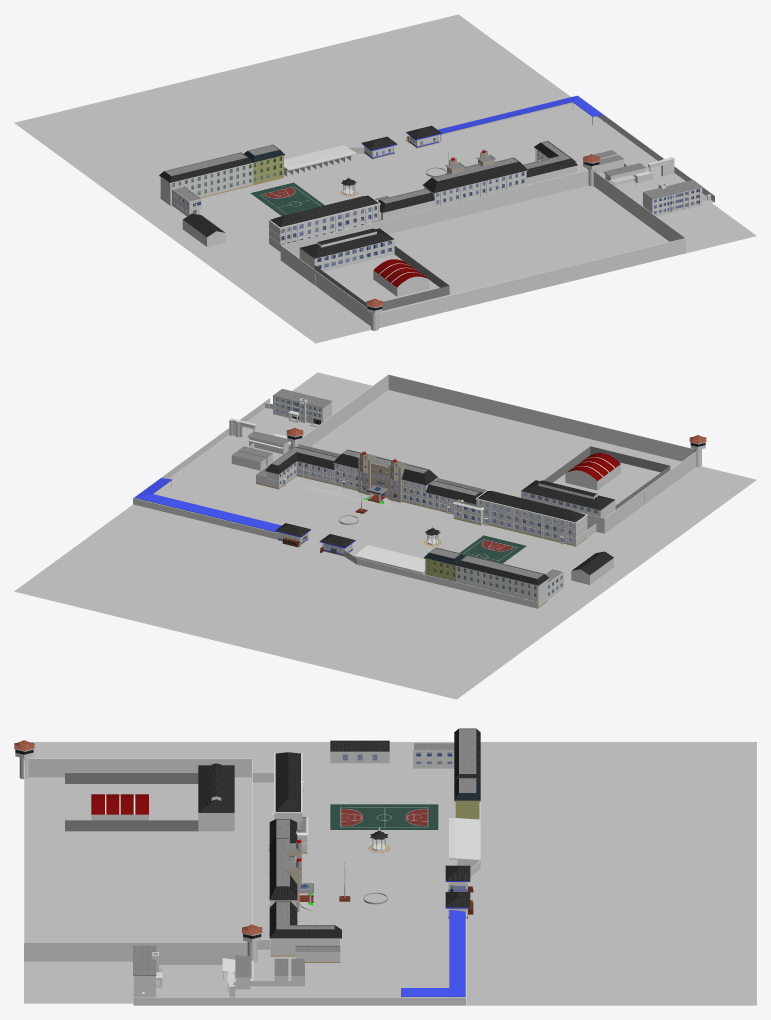
The model's file is Sence01.FBX.
The picture shows the model from 3 angles, top to bottom: view 1: azimuth 30°, elevation 25°; view 2: azimuth 150°, elevation 25°; view 3: azimuth 270°, elevation 25°; orthographic projection. The views are drawn at different scales.
Parts seen in each view (by area): view 1: SM_Grass, SM_Ground, SM_Qiang (×3), SM_Building, SM_Building010_wd, SM_Building05, SM_Building04, SM_ChangKu, SM_QiuChang, SM_Building08_wd, SM_Building06_WuDing, SM_Building010_3cq (+13 smaller); view 2: SM_Grass, SM_Ground, SM_Qiang (×3), SM_Building, SM_Building04, SM_Building05, SM_ChePeng, SM_Building010_3cq, SM_ChangKu, SM_Building08_wd, SM_Building06_WuDing, SM_QiuChang (+12 smaller); view 3: SM_Grass, SM_Ground, SM_Qiang (×3), SM_QiuChang, SM_Building, SM_Building04, SM_ChePeng, SM_Building06_WuDing, SM_Building08_wd, SM_Building011_wd, SM_ChangKu, SM_ChePeng02 (+12 smaller).
Boxes of the visible parts, x1,y1,x2,y2 form: SM_Grass: [14, 14, 714, 343]; SM_Ground: [105, 80, 756, 274]; SM_Qiang (×3): [160, 96, 714, 328]; SM_Building: [159, 144, 285, 205]; SM_Building010_wd: [422, 157, 528, 193]; SM_Building05: [643, 180, 710, 216]; SM_Building04: [583, 150, 674, 185]; SM_ChangKu: [373, 259, 429, 296]; SM_QiuChang: [250, 182, 324, 215]; SM_Building08_wd: [268, 195, 380, 228]; SM_Building06_WuDing: [300, 228, 394, 258]; SM_Building010_3cq: [424, 149, 526, 200]; SM_Grass: [14, 390, 756, 699]; SM_Ground: [104, 372, 663, 633]; SM_Qiang (×3): [133, 374, 696, 608]; SM_Building: [423, 547, 549, 608]; SM_Building04: [229, 418, 290, 470]; SM_Building05: [265, 389, 332, 427]; SM_ChePeng: [134, 478, 281, 532]; SM_Building010_3cq: [334, 451, 436, 492]; SM_ChangKu: [565, 453, 620, 490]; SM_Building08_wd: [476, 490, 587, 523]; SM_Building06_WuDing: [521, 480, 614, 510]; SM_QiuChang: [460, 535, 526, 563]; SM_Grass: [24, 742, 756, 1005]; SM_Ground: [24, 742, 537, 1005]; SM_Qiang (×3): [24, 758, 480, 1005]; SM_QiuChang: [330, 804, 438, 829]; SM_Building: [454, 728, 480, 819]; SM_Building04: [222, 955, 304, 997]; SM_ChePeng: [401, 910, 465, 997]; SM_Building06_WuDing: [198, 763, 234, 812]; SM_Building08_wd: [274, 752, 302, 813]; SM_Building011_wd: [269, 901, 341, 938]; SM_ChangKu: [91, 794, 148, 820]; SM_ChePeng02: [449, 818, 480, 868].
Size of the model in its own units: 22768 by 27138 by 2064.
